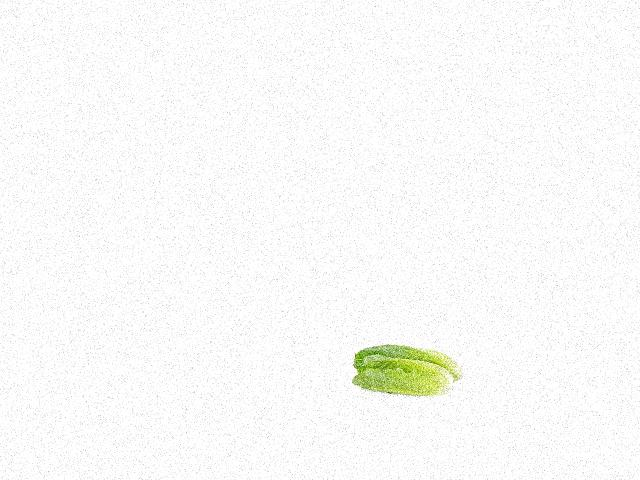lettuce: (350, 344, 462, 403)
